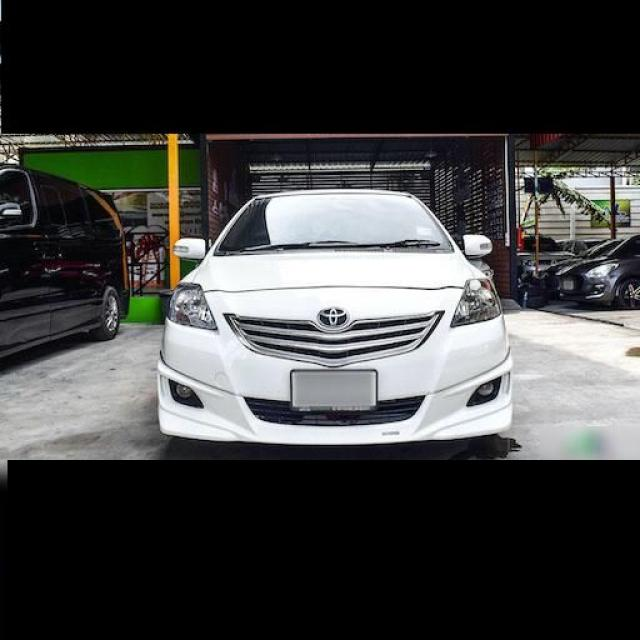front_bumper: (157, 286, 516, 445)
front_glass: (213, 194, 457, 256)
front_left_light: (452, 279, 503, 326)
front_right_light: (168, 282, 217, 331)
hood: (194, 252, 474, 293)
left_mirror: (462, 233, 492, 261)
right_mirror: (173, 238, 208, 263)
